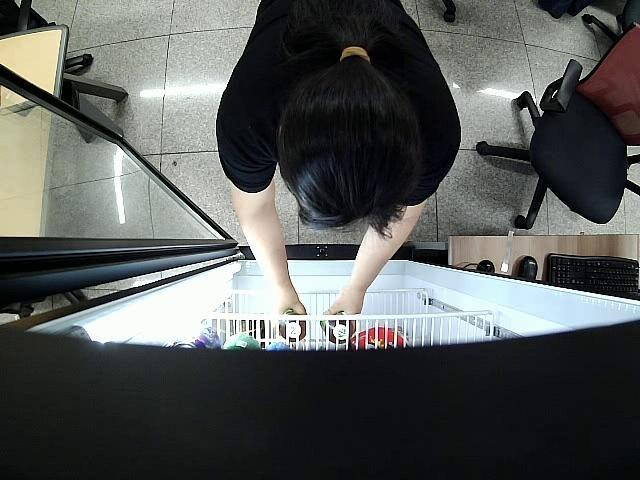19_17cha: (320, 312, 354, 344), (280, 312, 308, 343)
